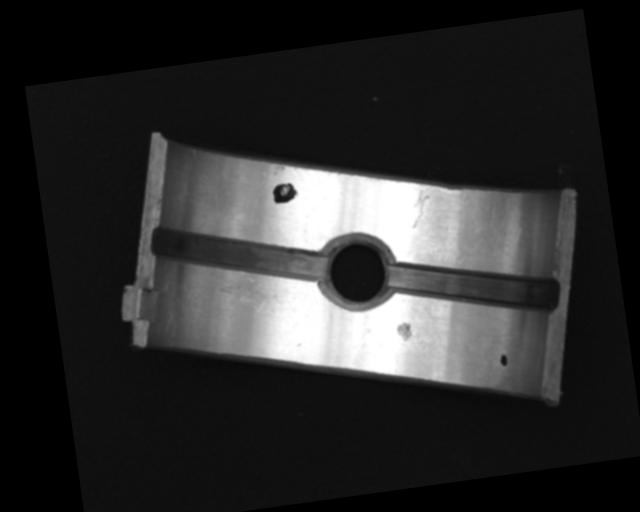blot: (269, 181, 298, 205), (497, 353, 509, 367)
bruise: (396, 320, 413, 343)
gap: (149, 207, 329, 303), (386, 247, 563, 332)
hole: (314, 231, 397, 315)
nick: (406, 184, 433, 230)
scratch: (191, 266, 273, 322)
